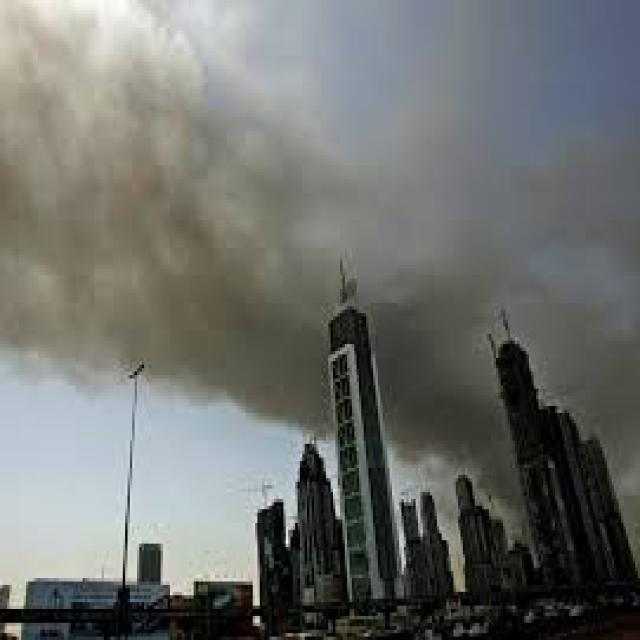smoke: (5, 3, 640, 547)
